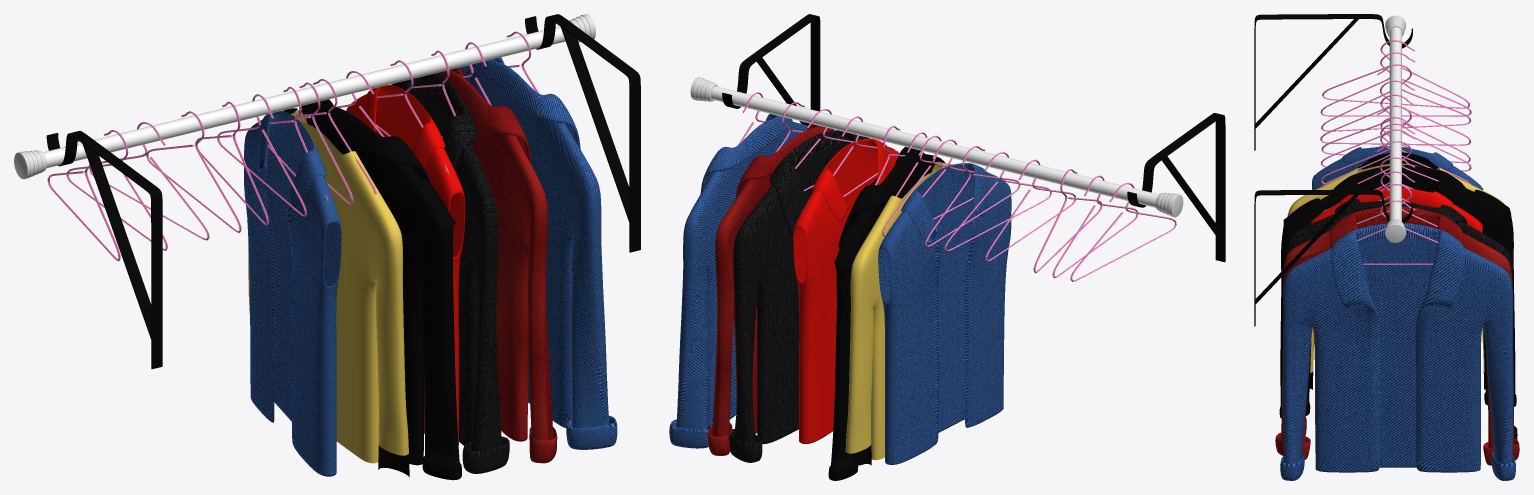
File: assets4.glb
The picture shows the model from 3 angles, left to right: view 1: azimuth 30°, elevation 25°; view 2: azimuth 150°, elevation 25°; view 3: azimuth 270°, elevation 25°; orthographic projection. The views are drawn at different scales.
Visible parts, largest first — view 1: Plane.009, Plane.004, Plane.008, Plane.007, Plane.005, Plane.006, NurbsPath.002, NurbsPath.003, NurbsPath, Plane.014, Cylinder.002; view 2: Plane.009, Plane.006, Plane.004, Plane.014, Plane.008, Plane.005, Plane.007, NurbsPath.003, NurbsPath.002, NurbsPath; view 3: Plane.004, Plane.007, NurbsPath, Plane.005, NurbsPath.002, NurbsPath.003, Plane.006, Plane.009, Plane.008, Plane.014, Cylinder.003.
Part boxes in pixels (x1,y1,x2,y2): Plane.009: (244, 111, 341, 476); Plane.004: (460, 57, 617, 449); Plane.008: (248, 106, 409, 477); Plane.007: (282, 99, 461, 480); Plane.005: (438, 67, 557, 463); Plane.006: (390, 73, 509, 473); NurbsPath.002: (46, 14, 640, 369); NurbsPath.003: (43, 26, 565, 167); NurbsPath: (47, 31, 539, 261); Plane.014: (346, 85, 465, 444); Cylinder.002: (14, 150, 46, 179); Plane.009: (878, 163, 1011, 464); Plane.006: (729, 130, 897, 462); Plane.004: (669, 113, 807, 448); Plane.014: (793, 138, 899, 443); Plane.008: (845, 158, 947, 472); Plane.005: (707, 124, 834, 455); Plane.007: (828, 147, 945, 480); NurbsPath.003: (711, 86, 1158, 207); NurbsPath.002: (722, 14, 1225, 262); NurbsPath: (738, 92, 1176, 281); Plane.004: (1280, 223, 1515, 480); Plane.007: (1279, 165, 1516, 418); NurbsPath: (1320, 40, 1471, 264); Plane.005: (1275, 206, 1519, 465); NurbsPath.002: (1254, 14, 1412, 326); NurbsPath.003: (1389, 27, 1401, 221); Plane.006: (1286, 198, 1517, 439); Plane.009: (1312, 146, 1483, 190); Plane.008: (1287, 152, 1503, 389); Plane.014: (1310, 187, 1482, 232); Cylinder.003: (1385, 219, 1405, 242).
Bounding box in the file's own units: 1.52 × 0.979 × 0.814.
11 materials, 3 textured.
